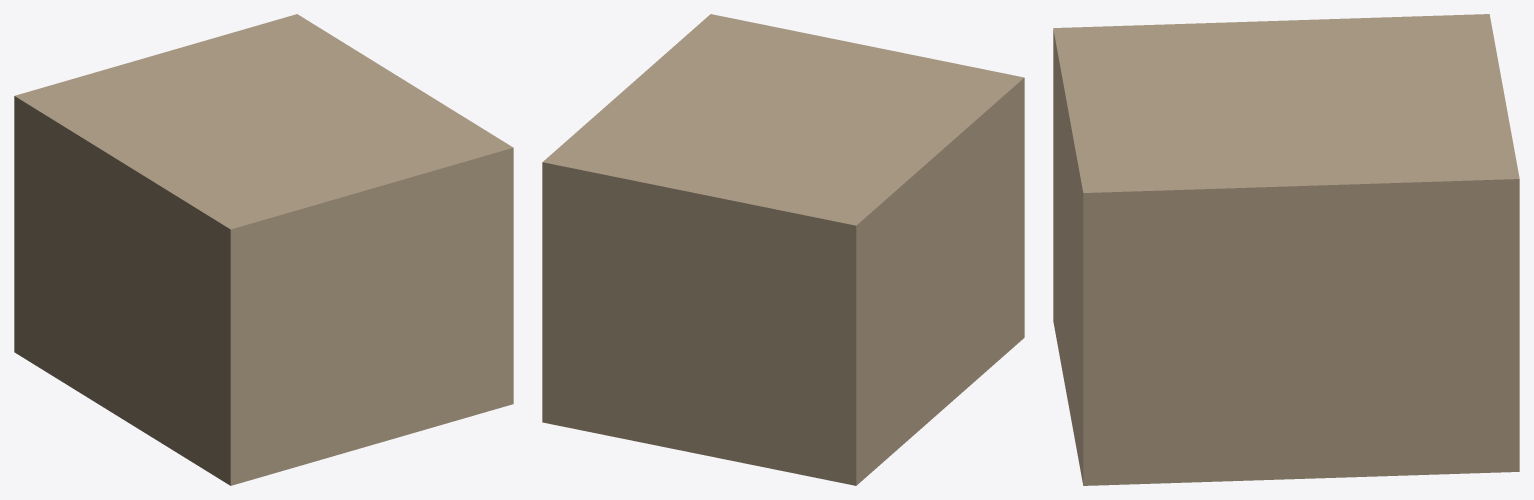
The model's file is bld_101572437.dae.
3 views of the same model, side by side, from view 1: azimuth 30°, elevation 25°; view 2: azimuth 150°, elevation 25°; view 3: azimuth 270°, elevation 25° (orthographic). The views are drawn at different scales.
Visible parts, largest first — view 1: bld_101572437; view 2: bld_101572437; view 3: bld_101572437.
Boxes of the visible parts, left/top/right/bottom form: bld_101572437: left=14, top=14, right=513, bottom=485; bld_101572437: left=542, top=14, right=1024, bottom=485; bld_101572437: left=1053, top=14, right=1519, bottom=485.
Bounding box in the file's own units: 10.49 × 11.55 × 8.
